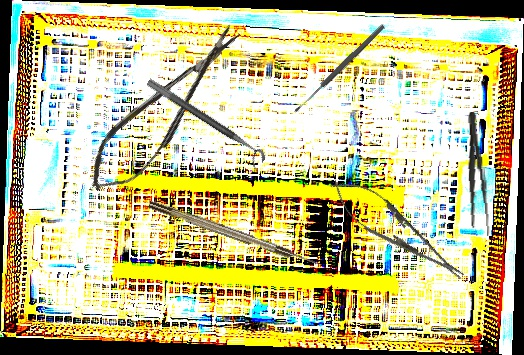Dressing Forceps: (460, 111, 493, 238)
Fixation Ring: (139, 77, 269, 172)
Hook Surgical: (147, 198, 321, 270)
Micro Scissor: (73, 15, 259, 205)
Needle Holder: (320, 166, 475, 295)
Surgical Spoon: (292, 22, 387, 115)
